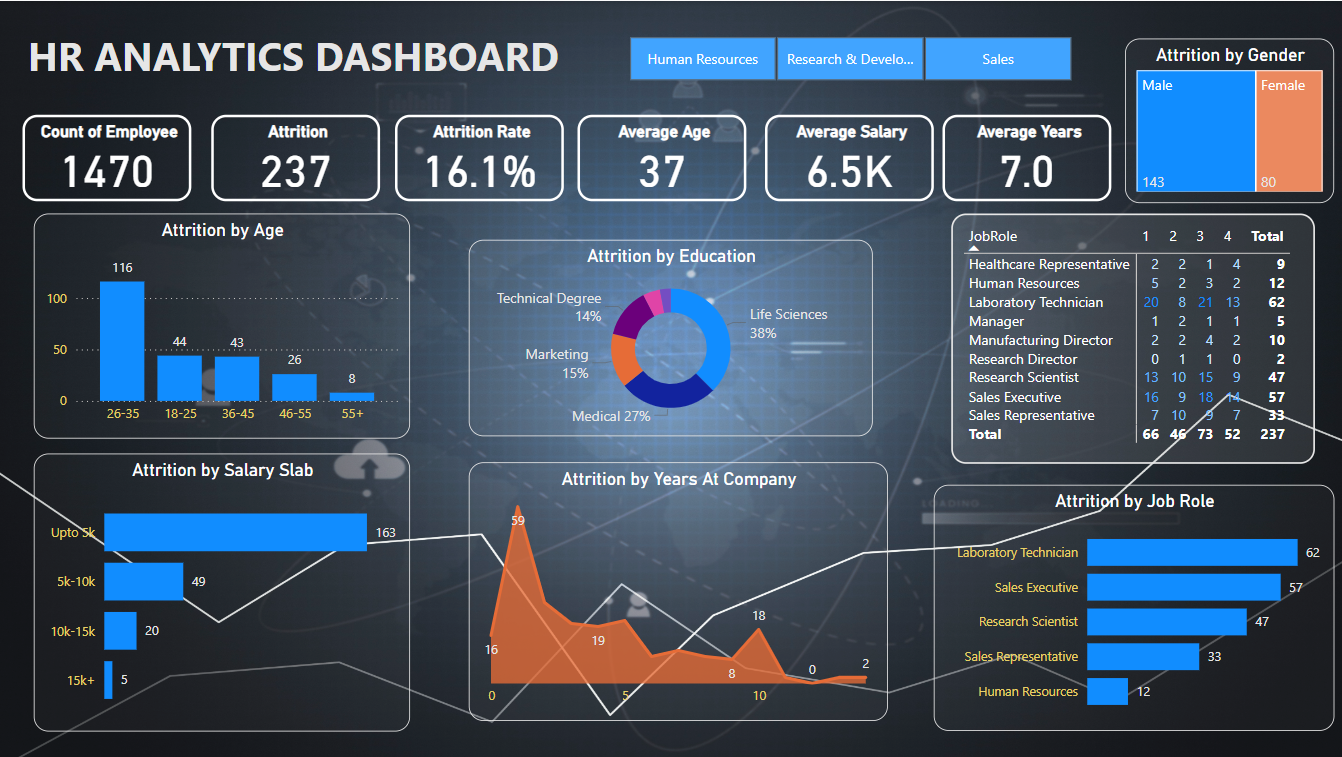

The page's visual inventory and layout, read from the dashboard file:
{"tool":"powerbi","page":{"name":"Page 1","canvas":[1280,720],"ordinal":0},"visuals":[{"type":"card","title":"Count of Employee","fields":{"Values":["CountNonNull(HR_Analytics.EmpID)"]},"box":[21.4,108.3,160.7,82.1],"z":0},{"type":"card","title":"Attrition","fields":{"Values":["Sum(HR_Analytics.AttritionCount)"]},"box":[201.2,108.3,160.7,82.1],"z":1000},{"type":"card","title":"Attrition Rate","fields":{"Values":["HR_Analytics.AttritionRate"]},"box":[376.2,108.3,160.7,82.1],"z":2000},{"type":"card","title":"Average Age","fields":{"Values":["Avg(HR_Analytics.Age)"]},"box":[550,108.3,160.7,82.1],"z":3000},{"type":"card","title":"Average Salary","fields":{"Values":["Avg(HR_Analytics.MonthlyIncome)"]},"box":[728.6,108.3,160.7,82.1],"z":4000},{"type":"card","title":"Average Years","fields":{"Values":["Avg(HR_Analytics.YearsAtCompany)"]},"box":[897.6,108.3,160.7,82.1],"z":5000},{"type":"donutChart","title":"Attrition by Education","fields":{"Category":["HR_Analytics.EducationField"],"Y":["Sum(HR_Analytics.AttritionCount)"]},"box":[446.4,227.4,384.5,186.9],"z":6000},{"type":"columnChart","title":"Attrition by Age","fields":{"Category":["HR_Analytics.AgeGroup"],"Y":["Sum(HR_Analytics.AttritionCount)"]},"box":[32.1,202.4,358.3,214.3],"z":7000},{"type":"pivotTable","fields":{"Rows":["HR_Analytics.JobRole"],"Columns":["HR_Analytics.JobSatisfaction"],"Values":["Sum(HR_Analytics.AttritionCount)"]},"box":[906.2,202.5,346.2,238.8],"z":8000},{"type":"barChart","title":"Attrition by Salary Slab","fields":{"Category":["HR_Analytics.SalarySlab"],"Y":["Sum(HR_Analytics.AttritionCount)"]},"box":[31.6,430.9,358.1,264.8],"z":9000},{"type":"barChart","title":"Attrition by Job Role","fields":{"Category":["HR_Analytics.JobRole"],"Y":["Sum(HR_Analytics.AttritionCount)"]},"box":[889.2,461.1,381.5,234.6],"z":10000},{"type":"areaChart","title":"Attrition by Years At Company","fields":{"Category":["HR_Analytics.YearsAtCompany"],"Y":["Sum(HR_Analytics.AttritionCount)"]},"box":[446.4,439.3,398.8,246.4],"z":11000},{"type":"treemap","title":"Attrition by Gender","fields":{"Group":["HR_Analytics.Gender"],"Values":["Sum(HR_Analytics.AttritionCount)"]},"box":[1071.4,35.7,198.8,157.1],"z":12000},{"type":"textbox","box":[21.4,21.4,563.1,65.5],"z":13000},{"type":"slicer","fields":{"Values":["HR_Analytics.Department"]},"box":[573.8,27.4,470.2,54.8],"z":14000}]}

Visuals, with their boxes in screenshot pixels (x1, y1, x2, y2), scaled from the page's 1280x720 canvas onto the 1342x757 screenshot:
"Count of Employee" card: <box>22,114,191,200</box>
"Attrition" card: <box>211,114,379,200</box>
"Attrition Rate" card: <box>394,114,563,200</box>
"Average Age" card: <box>577,114,745,200</box>
"Average Salary" card: <box>764,114,932,200</box>
"Average Years" card: <box>941,114,1110,200</box>
"Attrition by Education" donutChart: <box>468,239,871,436</box>
"Attrition by Age" columnChart: <box>34,213,409,438</box>
pivotTable - HR_Analytics.JobRole x HR_Analytics.JobSatisfaction: <box>950,213,1313,464</box>
"Attrition by Salary Slab" barChart: <box>33,453,409,731</box>
"Attrition by Job Role" barChart: <box>932,485,1332,731</box>
"Attrition by Years At Company" areaChart: <box>468,462,886,721</box>
"Attrition by Gender" treemap: <box>1123,38,1332,203</box>
textbox: <box>22,22,613,91</box>
slicer - HR_Analytics.Department: <box>602,29,1095,86</box>
